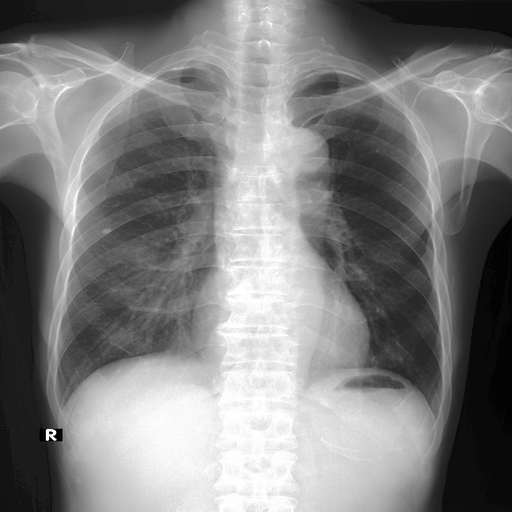Calcification: (153, 58, 215, 74), (300, 66, 360, 79)
Consolidation: (260, 126, 329, 177)
Lung Opacity: (100, 226, 114, 235)
Other lesion: (102, 228, 113, 234)
Pulmonary fibrosis: (101, 228, 112, 234)
